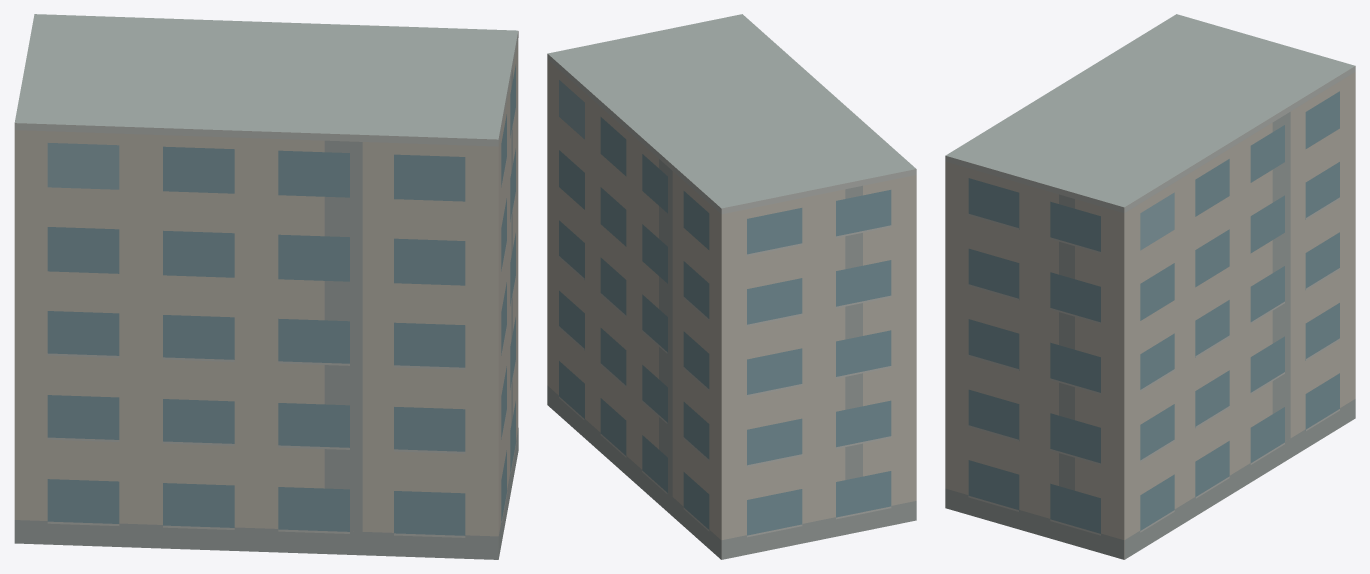
The model's file is survey-upis-32496898.glb.
3 renders of one model, left to right at view 1: azimuth 30°, elevation 25°; view 2: azimuth 150°, elevation 25°; view 3: azimuth 270°, elevation 25°, orthographic. The views are drawn at different scales.
Parts seen in each view (by area): view 1: survey-upis-32496898.tmp; view 2: survey-upis-32496898.tmp; view 3: survey-upis-32496898.tmp.
Part boxes in pixels (x1,y1,x2,y2): survey-upis-32496898.tmp: [14, 14, 518, 559]; survey-upis-32496898.tmp: [547, 14, 916, 559]; survey-upis-32496898.tmp: [945, 14, 1355, 559].
Size of the model in its own units: 17.13 by 14.55 by 15.36.
